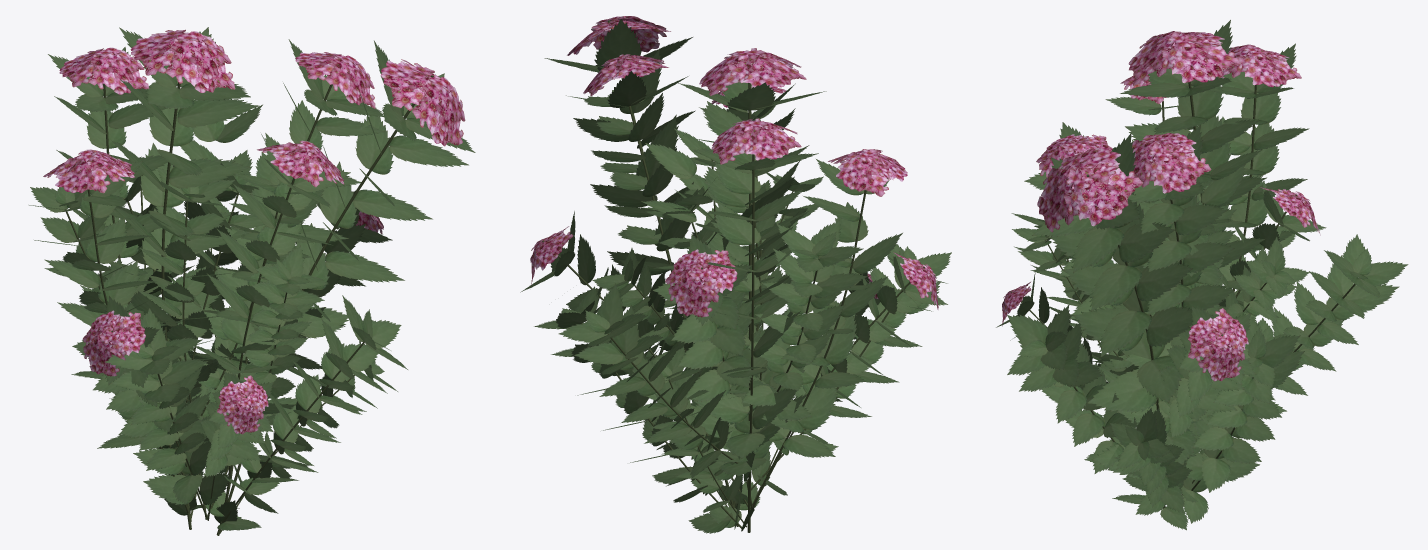
Rendered from simotsuke_nocolor.fbx.
The picture shows the model from 3 angles, left to right: view 1: azimuth 30°, elevation 25°; view 2: azimuth 150°, elevation 25°; view 3: azimuth 270°, elevation 25°; orthographic projection. The views are drawn at different scales.
Parts seen in each view (by area): view 1: 905.151, 905.153, 905.152, 905.158, 905.149, 905.173, 905.073, 904, 904.003, 905.098, 905.075, 905.155 (+40 smaller); view 2: 905.098, 905.074, 905.157, 905.158, 905.151, 905.150, 905.154, 905.072, 905.156, 904, 904.001, 904.002 (+41 smaller); view 3: 905.150, 905.153, 905.074, 905.156, 904.003, 905.155, 904, 905.154, 904.004, 905.157, 905.152, 904.001 (+43 smaller).
Boxes of the visible parts, left/top/right/bottom form: 905.151: left=105, top=308, right=231, bottom=504; 905.153: left=203, top=295, right=407, bottom=530; 905.152: left=239, top=245, right=328, bottom=398; 905.158: left=72, top=296, right=208, bottom=520; 905.149: left=137, top=166, right=234, bottom=441; 905.173: left=200, top=371, right=273, bottom=520; 905.073: left=181, top=152, right=323, bottom=420; 904: left=131, top=29, right=235, bottom=92; 904.003: left=380, top=59, right=465, bottom=149; 905.098: left=29, top=187, right=196, bottom=398; 905.075: left=167, top=156, right=273, bottom=448; 905.155: left=214, top=341, right=397, bottom=533; 905.098: left=726, top=220, right=867, bottom=442; 905.074: left=558, top=283, right=755, bottom=481; 905.157: left=653, top=234, right=777, bottom=508; 905.158: left=750, top=248, right=947, bottom=508; 905.151: left=751, top=237, right=951, bottom=495; 905.150: left=534, top=286, right=741, bottom=533; 905.154: left=592, top=248, right=710, bottom=387; 905.072: left=632, top=346, right=754, bottom=531; 905.156: left=520, top=211, right=750, bottom=509; 904: left=699, top=48, right=806, bottom=95; 904.001: left=711, top=118, right=801, bottom=164; 904.002: left=828, top=149, right=907, bottom=196; 905.150: left=1182, top=313, right=1304, bottom=523; 905.153: left=1007, top=304, right=1147, bottom=503; 905.074: left=1257, top=234, right=1408, bottom=417; 905.156: left=1158, top=306, right=1256, bottom=438; 904.003: left=1037, top=147, right=1142, bottom=232; 905.155: left=1109, top=407, right=1192, bottom=530; 904: left=1128, top=31, right=1240, bottom=85; 905.154: left=1208, top=236, right=1309, bottom=416; 904.004: left=1132, top=133, right=1211, bottom=193; 905.157: left=1218, top=181, right=1326, bottom=317; 905.152: left=1012, top=228, right=1156, bottom=403; 904.001: left=1218, top=44, right=1301, bottom=87.
Size of the model in its own units: 53.31 by 64.08 by 52.03.
Materials: 3 (2 with a texture image).
